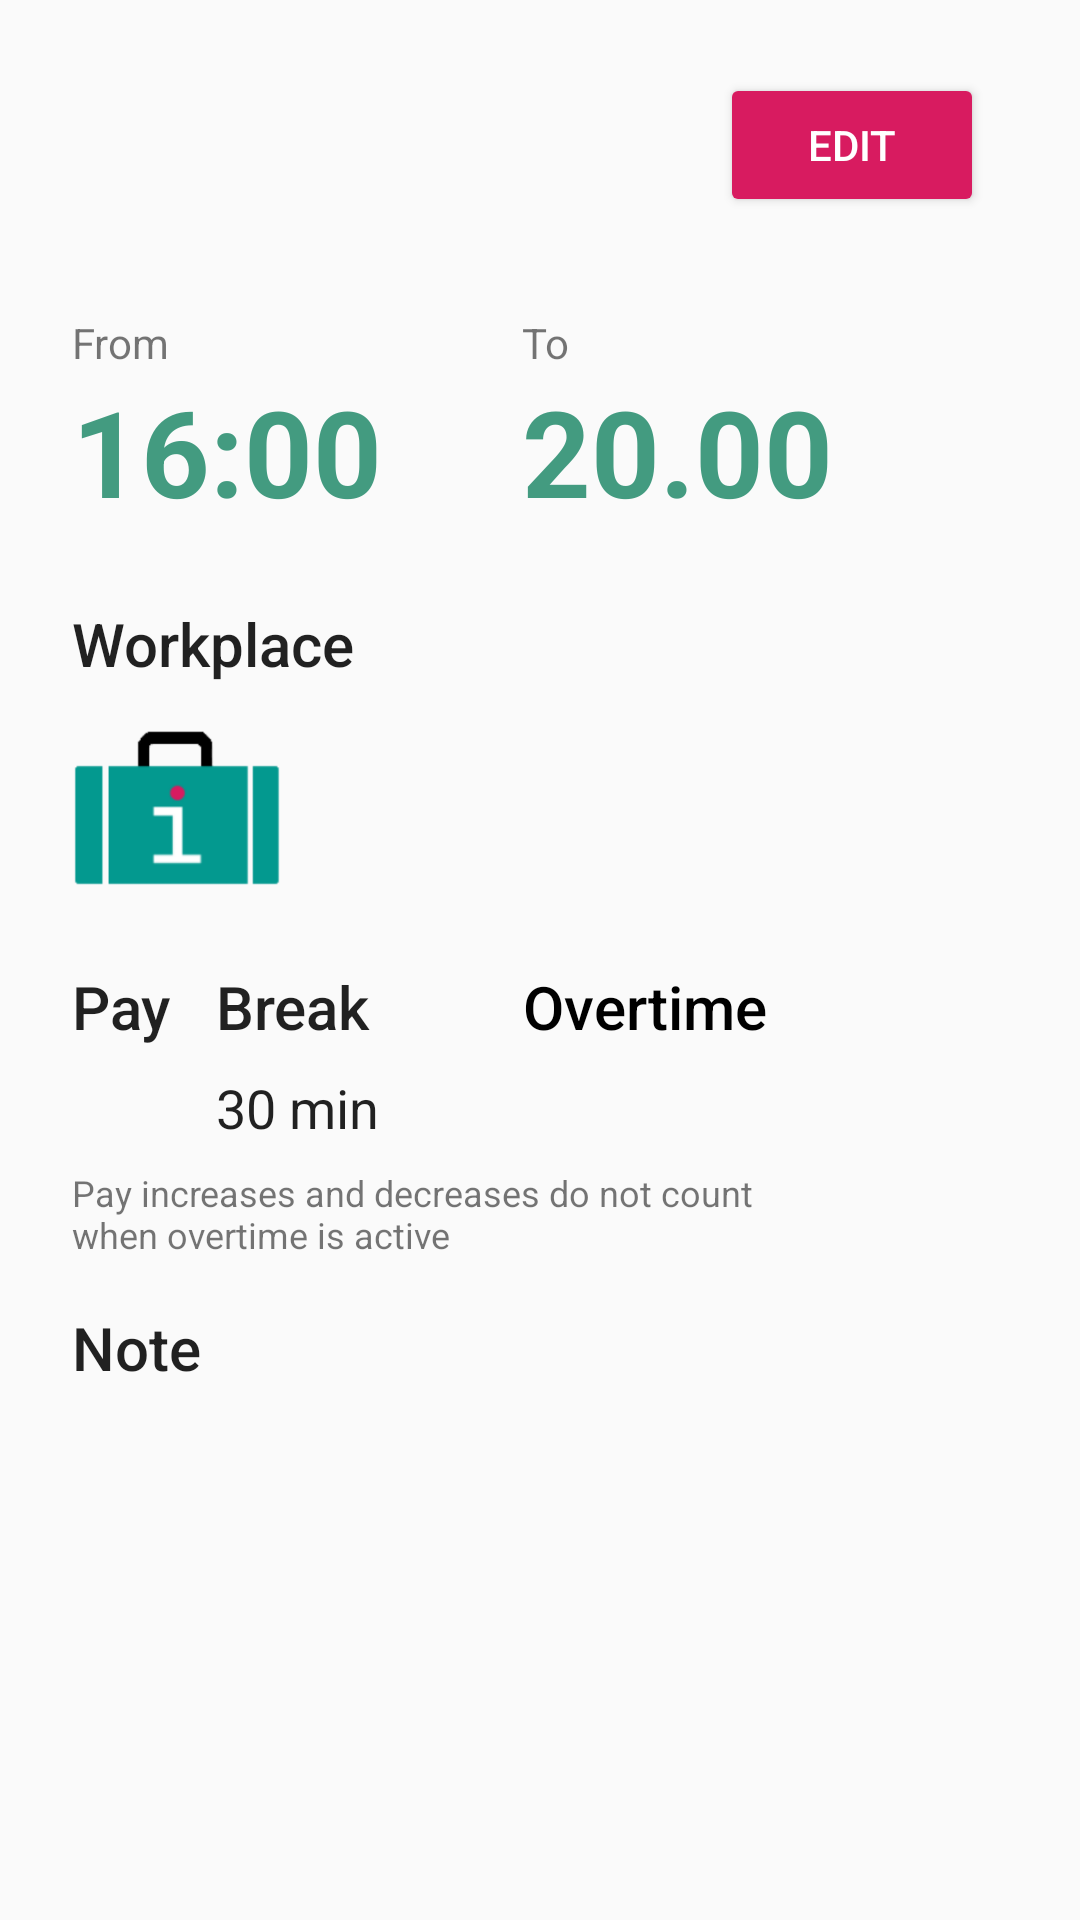

Icons on this 1080×1920 Android screen, each with its box as [left=x1, top=y1, right=x2, bottom=y2]:
job: [left=75, top=731, right=279, bottom=885]
